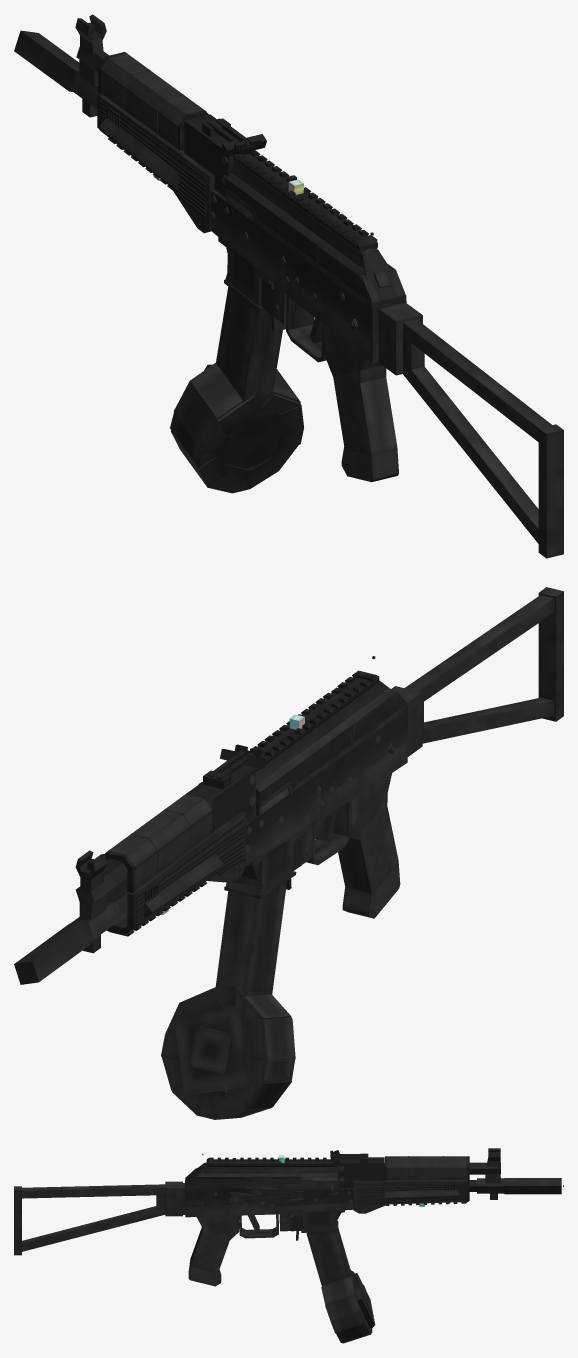
3 views of the same model, one above another, from view 1: azimuth 30°, elevation 25°; view 2: azimuth 150°, elevation 25°; view 3: azimuth 270°, elevation 25° (orthographic). The views are drawn at different scales.
Visible parts, largest first — view 1: stock, gun, dustcover, pgriptrigger, bone9, handguard, handguard2, magazineggggg2, bone7, lowerbody, muzbrake, bone15 (+2 smaller); view 2: bone7, gun, stock, dustcover, pgriptrigger, handguard2, handguard, lowerbody, magazineggggg5, muzbrake, magazineggggg2, bone9 (+2 smaller); view 3: stock, gun, dustcover, pgriptrigger, handguard, handguard2, bone7, lowerbody, magazineggggg2, muzbrake, switch, bolt (+4 smaller).
Boxes of the visible parts, x1,y1,x2,y2 form: stock: [378, 302, 563, 558]; gun: [70, 14, 406, 342]; dustcover: [225, 150, 406, 308]; pgriptrigger: [271, 284, 398, 482]; bone9: [171, 393, 303, 493]; handguard: [99, 69, 206, 218]; handguard2: [97, 52, 214, 232]; magazineggggg2: [218, 288, 282, 402]; bone7: [170, 362, 300, 464]; lowerbody: [218, 237, 378, 363]; muzbrake: [14, 30, 79, 91]; bone15: [359, 248, 405, 303]; bone7: [161, 987, 294, 1117]; gun: [71, 708, 407, 953]; stock: [391, 587, 563, 756]; dustcover: [244, 670, 407, 815]; pgriptrigger: [286, 773, 400, 918]; handguard2: [104, 792, 245, 933]; handguard: [105, 808, 243, 926]; lowerbody: [224, 741, 407, 898]; magazineggggg5: [215, 862, 285, 994]; muzbrake: [14, 921, 94, 984]; magazineggggg2: [248, 881, 286, 994]; bone9: [172, 1018, 295, 1119]; stock: [14, 1181, 184, 1255]; gun: [185, 1148, 504, 1207]; dustcover: [185, 1157, 337, 1189]; pgriptrigger: [188, 1213, 298, 1286]; handguard: [356, 1156, 467, 1204]; handguard2: [353, 1156, 469, 1213]; bone7: [322, 1269, 375, 1333]; lowerbody: [185, 1203, 344, 1232]; magazineggggg2: [306, 1232, 343, 1286]; muzbrake: [504, 1178, 561, 1194]; switch: [229, 1187, 304, 1205]; bolt: [278, 1172, 337, 1195].
Size of the model in its own units: 66.26 by 226 by 593.
1 material, 1 textured.
